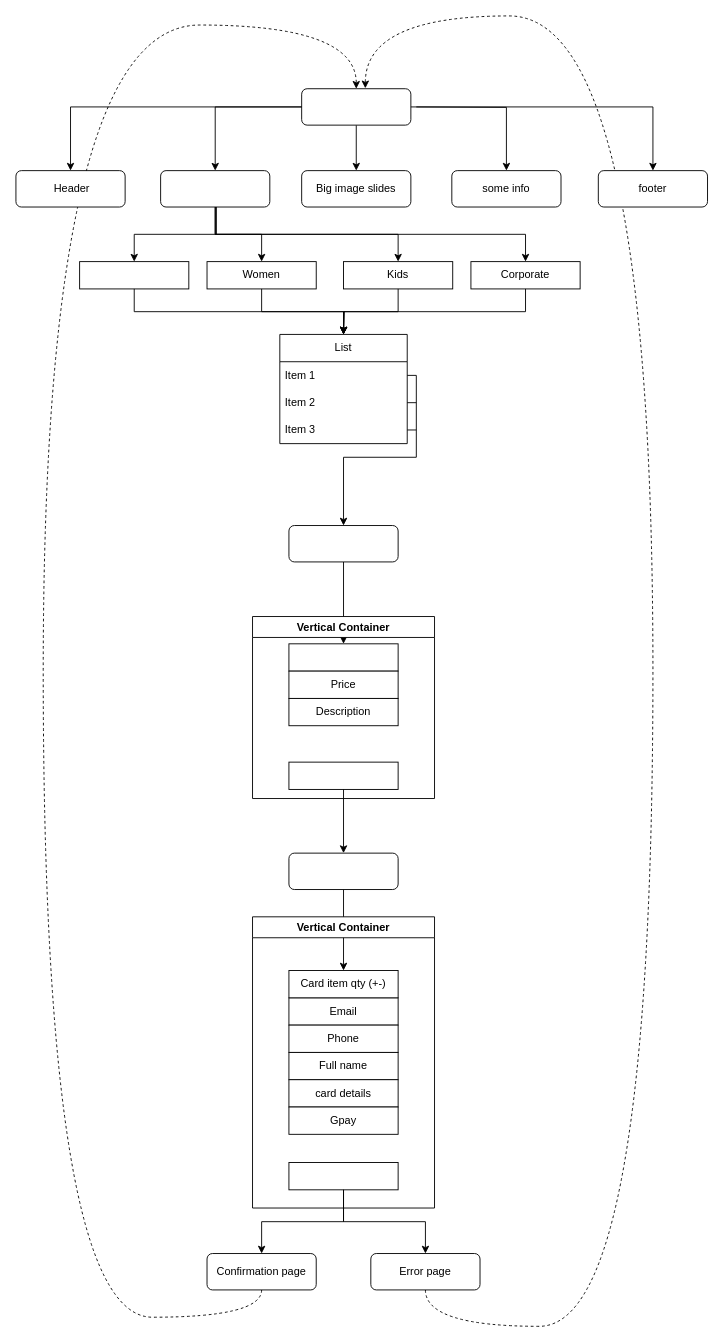
Some shapes in this 723 by 1342 pixel diagram are drawn without their labels. Here are the shapes that lost their labels. From the top down, the centre of each, then its label:
At point 356,106: "landing page".
At point 215,188: "NavBar".
At point 134,275: "men".
At point 343,543: "Product page".
At point 343,657: "Image".
At point 343,775: "Checkout".
At point 343,871: "Checkout page".
At point 343,1176: "Proceed".
